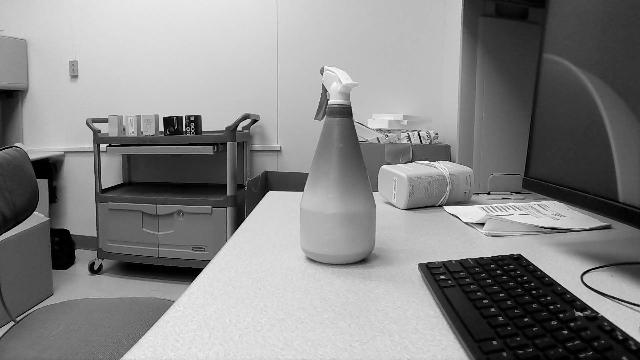AlcoholSpray: (298, 67, 377, 267)
